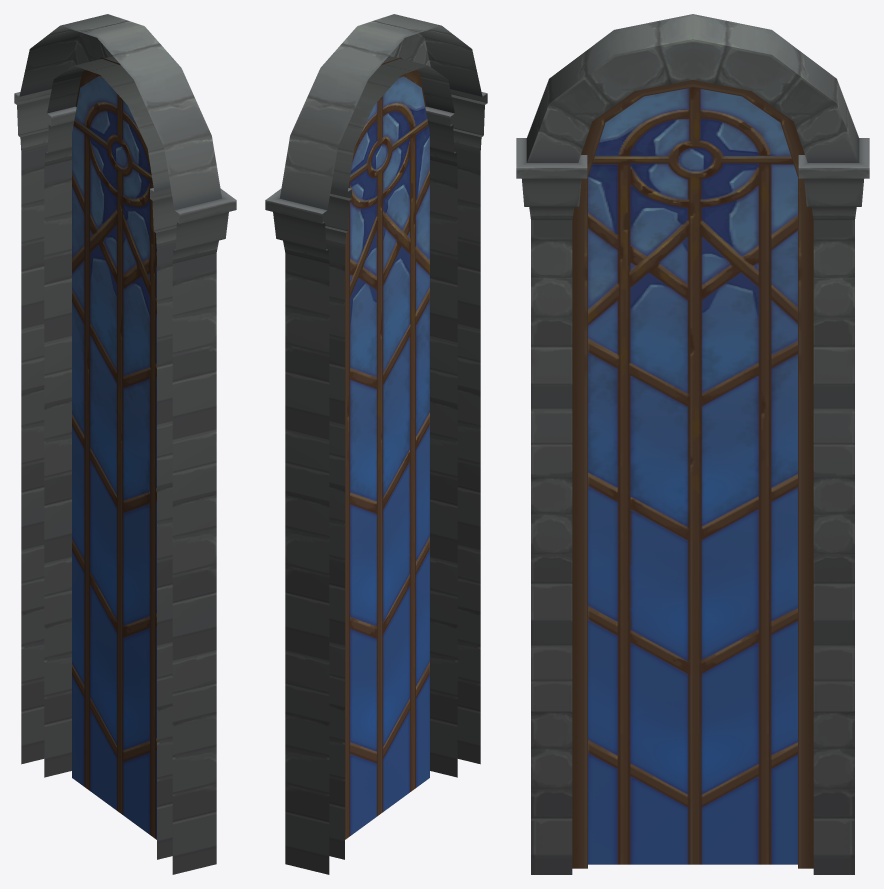
The model's file is sc_dungeon_moshenta_chuanghu_001_b.FBX.
3 views of the same model, side by side, from view 1: azimuth 30°, elevation 25°; view 2: azimuth 150°, elevation 25°; view 3: azimuth 270°, elevation 25° (orthographic). The views are drawn at different scales.
Visible parts, largest first — view 1: sc_dungeon_moshenta_chuanghu_001_b; view 2: sc_dungeon_moshenta_chuanghu_001_b; view 3: sc_dungeon_moshenta_chuanghu_001_b.
Part boxes in pixels (bbox=[...]): sc_dungeon_moshenta_chuanghu_001_b: bbox=[14, 14, 236, 874]; sc_dungeon_moshenta_chuanghu_001_b: bbox=[265, 14, 487, 874]; sc_dungeon_moshenta_chuanghu_001_b: bbox=[516, 14, 869, 874].
Size of the model in its own units: 1.3 by 6.5 by 17.01.
1 material, 1 textured.
